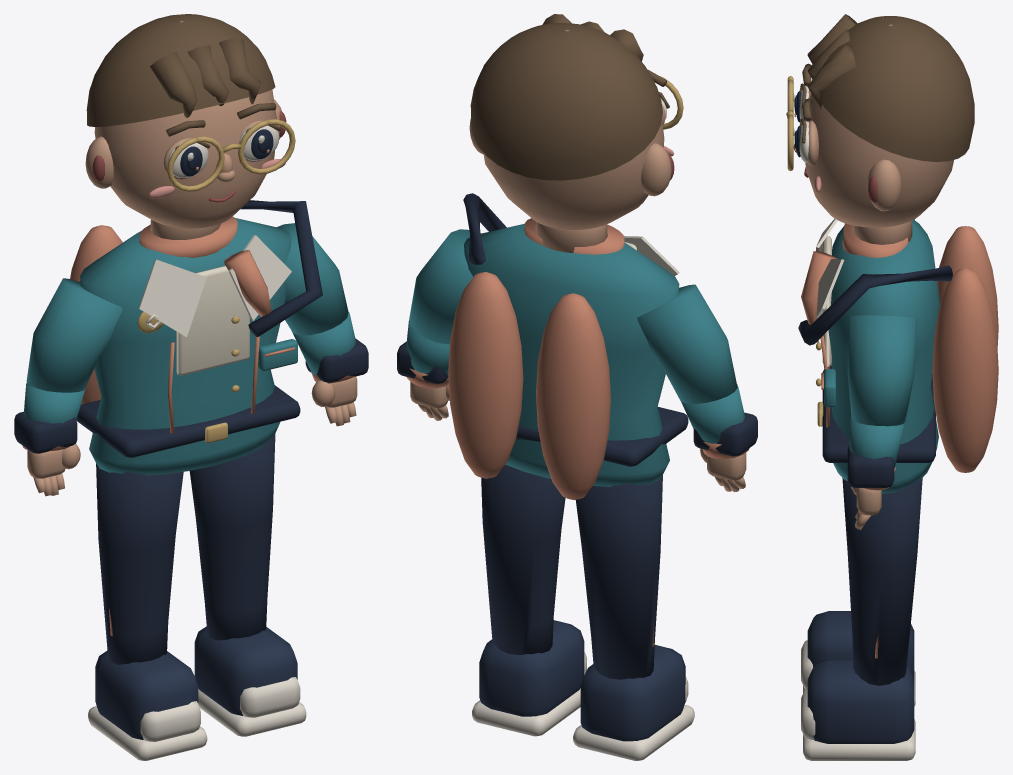
Rendered from npc_pirateshore_trainer_2.glb.
3 renders of one model, left to right at view 1: azimuth 30°, elevation 25°; view 2: azimuth 150°, elevation 25°; view 3: azimuth 270°, elevation 25°, orthographic.
Parts seen in each view (by area): view 1: figure.043; view 2: figure.043; view 3: figure.043.
Boxes of the visible parts, x1,y1,x2,y2 form: figure.043: [14, 14, 368, 760]; figure.043: [397, 14, 757, 760]; figure.043: [786, 14, 998, 760].
Size of the model in its own units: 0.8063 by 1.58 by 0.4362.
